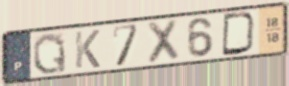6: (186, 16, 216, 59)
7: (112, 22, 139, 68)
D: (220, 11, 258, 57)
K: (73, 28, 102, 70)
Q: (31, 31, 69, 76)
X: (145, 17, 182, 66)
